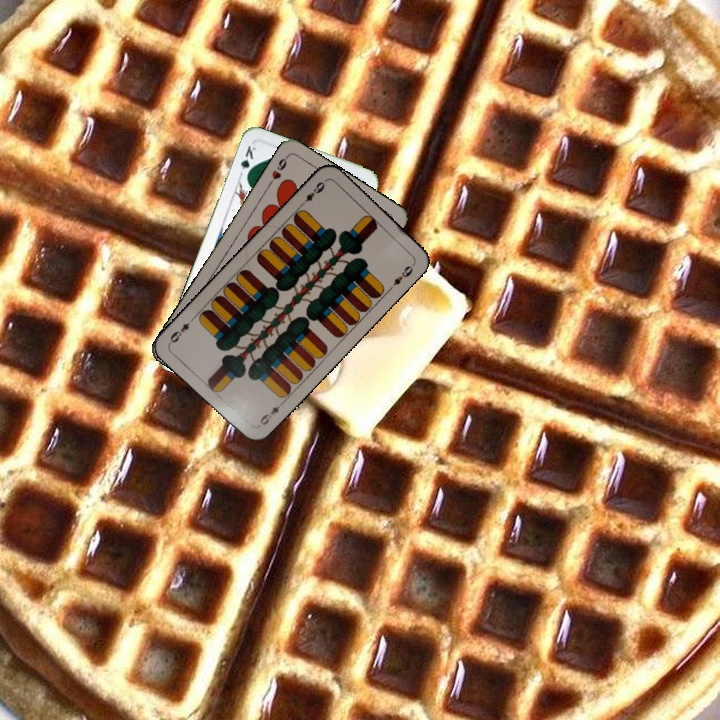E9: (254, 397, 287, 430), (296, 178, 327, 209)
GK: (236, 141, 258, 181)
H9: (264, 152, 291, 188)
